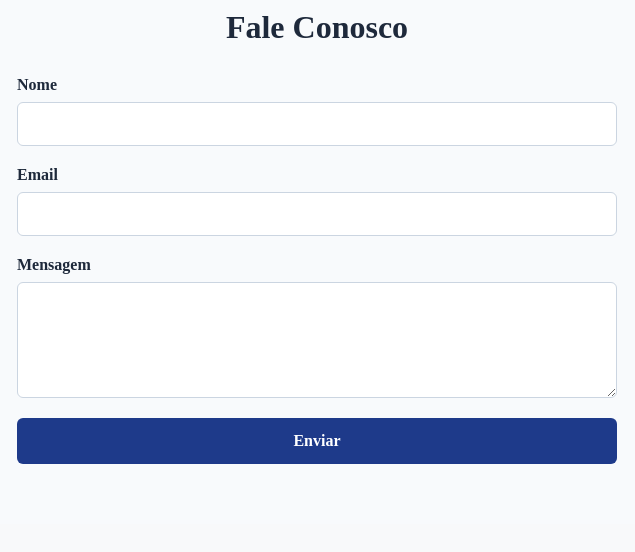
FormContato Component › Cenário 4 & Extra — shows success message and clears form inputs on successful submission
This screenshot has width=635, height=552.
# Fill all fields validly
Type "Kauã Thierry" into the field labelled "Nome".
click(317, 124); type("Kauã Thierry")  # box [17,102,617,146]
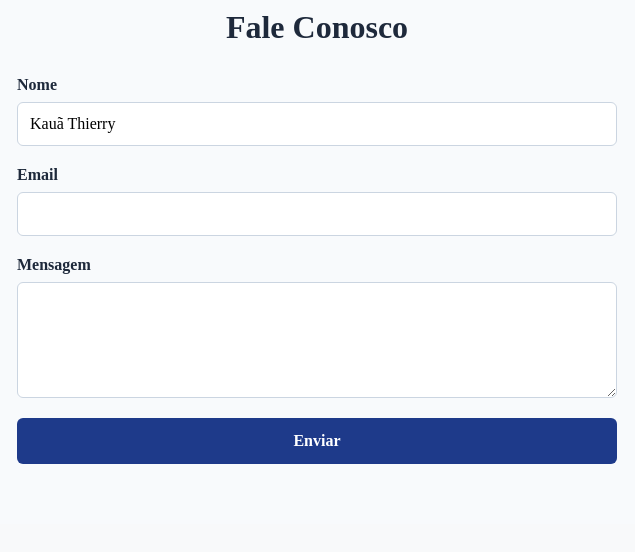
Type "kaua@thierry.com" into the field labelled "Email".
click(317, 214); type("kaua@thierry.com")  # box [17,192,617,236]
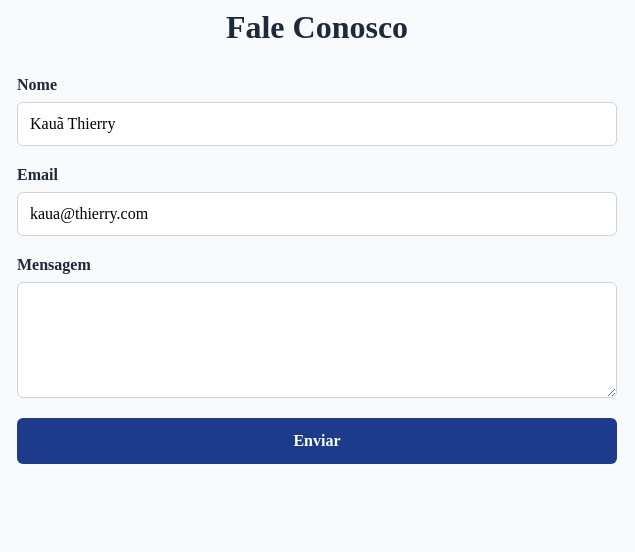
Type "Esta é uma mensagem com mais de dez caracteres." into the text box labelled "Mensagem".
click(317, 340); type("Esta é uma mensagem com mais de dez caracteres.")  # box [17,282,617,398]
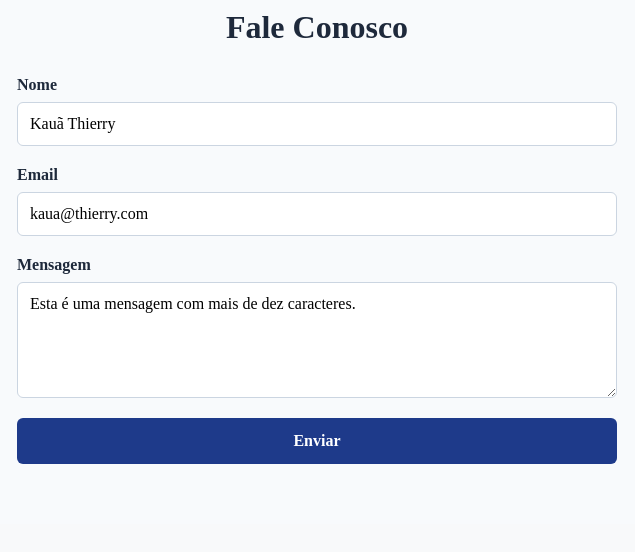
Click the button "Enviar".
click(317, 441)  # box [17,418,617,464]
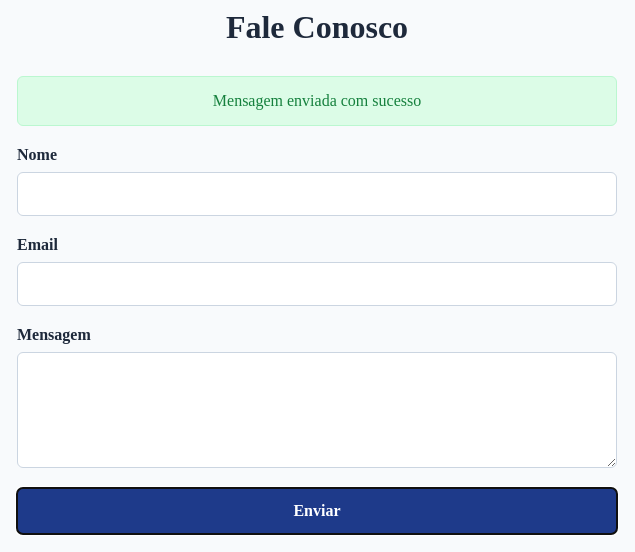
Now the text "Mensagem enviada com sucesso" is shown, box [17,76,617,126]
Now the field labelled "Nome" is empty, box [17,172,617,216]
Now the field labelled "Email" is empty, box [17,262,617,306]
